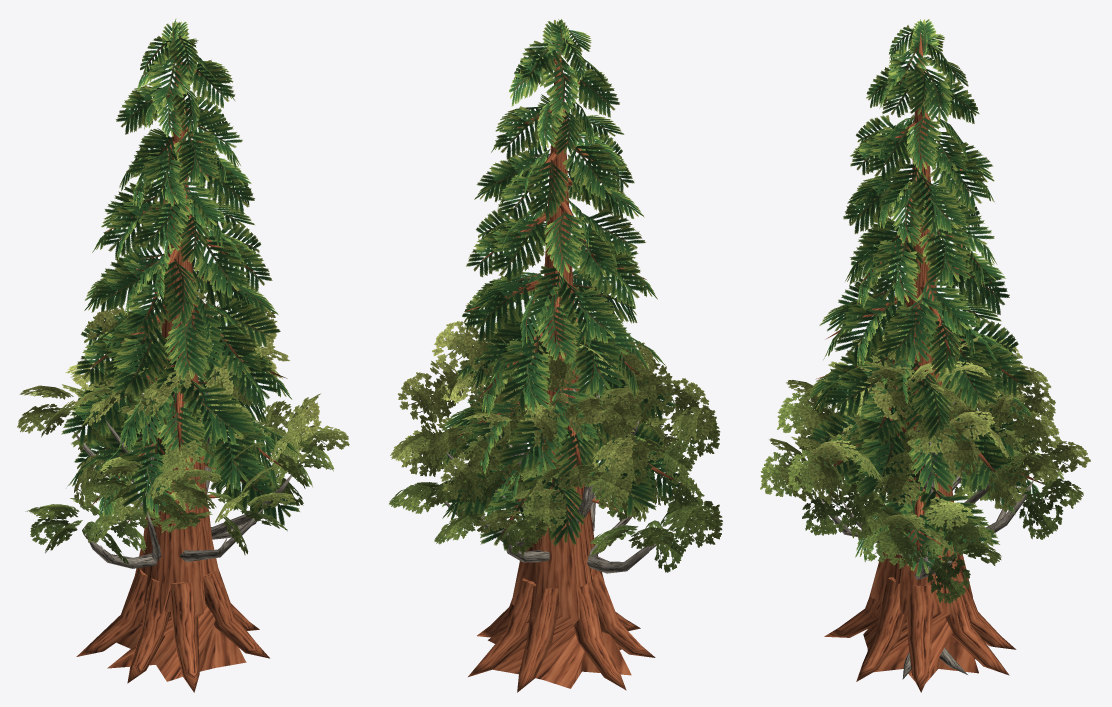
The model's file is trees_v4.glb.
3 views of the same model, side by side, from view 1: azimuth 30°, elevation 25°; view 2: azimuth 150°, elevation 25°; view 3: azimuth 270°, elevation 25° (orthographic).
Visible parts, largest first — view 1: Redwood_FoliageCrown_V4, Oak_FoliageCrown_V4, Redwood_TrunkAndBoughs_V4, Oak_TrunkAndLimbs_V4; view 2: Redwood_FoliageCrown_V4, Oak_FoliageCrown_V4, Redwood_TrunkAndBoughs_V4, Oak_TrunkAndLimbs_V4; view 3: Redwood_FoliageCrown_V4, Oak_FoliageCrown_V4, Redwood_TrunkAndBoughs_V4, Oak_TrunkAndLimbs_V4.
Part boxes in pixels (<box>): Redwood_FoliageCrown_V4: <box>61,18,299,525</box>; Oak_FoliageCrown_V4: <box>17,291,349,564</box>; Redwood_TrunkAndBoughs_V4: <box>69,36,287,692</box>; Oak_TrunkAndLimbs_V4: <box>70,367,291,568</box>; Redwood_FoliageCrown_V4: <box>442,19,680,550</box>; Oak_FoliageCrown_V4: <box>389,303,722,572</box>; Redwood_TrunkAndBoughs_V4: <box>438,40,684,692</box>; Oak_TrunkAndLimbs_V4: <box>445,375,669,683</box>; Redwood_FoliageCrown_V4: <box>807,19,1046,576</box>; Oak_FoliageCrown_V4: <box>760,298,1090,603</box>; Redwood_TrunkAndBoughs_V4: <box>816,32,1044,692</box>; Oak_TrunkAndLimbs_V4: <box>821,376,1034,679</box>.
Size of the model in its own units: 7.6 by 15.2 by 7.39.
4 materials, 4 textured.
